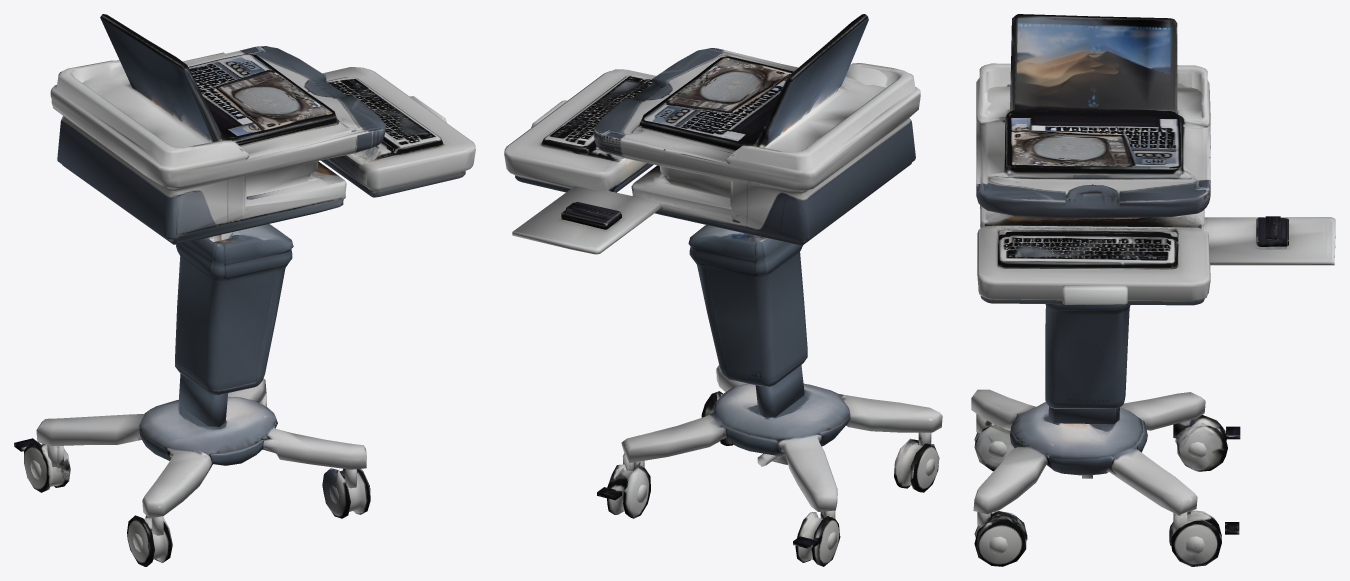
File: workingcart3.fbx
3 renders of one model, left to right at view 1: azimuth 30°, elevation 25°; view 2: azimuth 150°, elevation 25°; view 3: azimuth 270°, elevation 25°, orthographic. The views are drawn at different scales.
Parts seen in each view (by area): view 1: tripo_node_c86aa9f3; view 2: tripo_node_c86aa9f3; view 3: tripo_node_c86aa9f3.
Part boxes in pixels (box(x1,y1,x2,y2)): tripo_node_c86aa9f3: box(14, 14, 475, 566); tripo_node_c86aa9f3: box(504, 14, 942, 566); tripo_node_c86aa9f3: box(971, 14, 1335, 566).
Bounding box in the file's own units: 71.62 × 94.88 × 65.76.
1 material, 1 textured.
